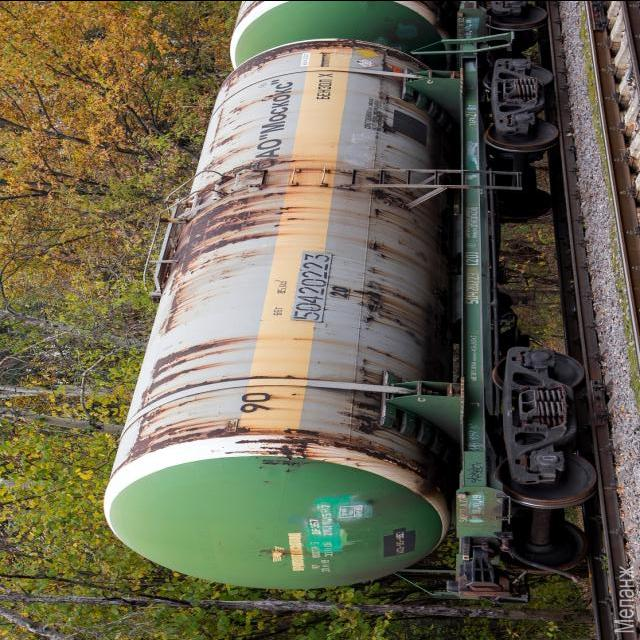wagon: (292, 251, 337, 321)
